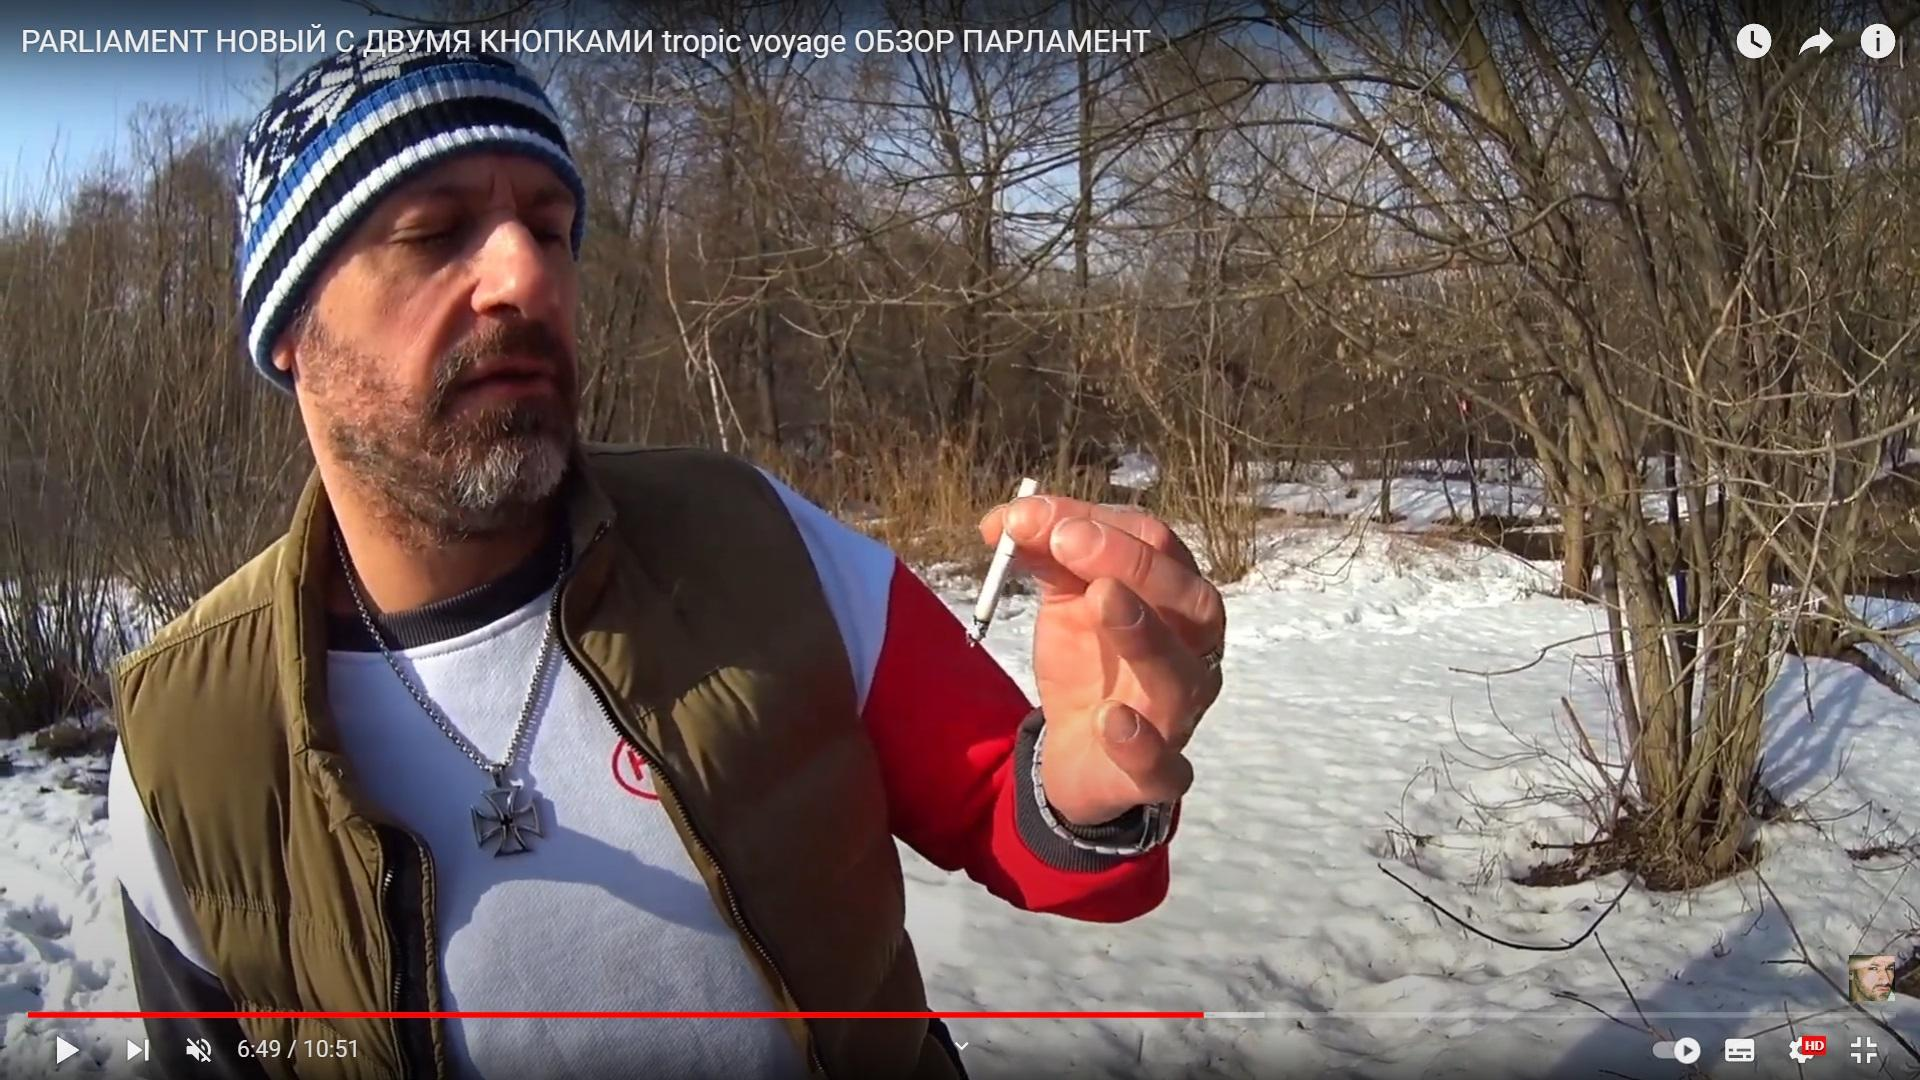cigarette: (964, 477, 1042, 647)
